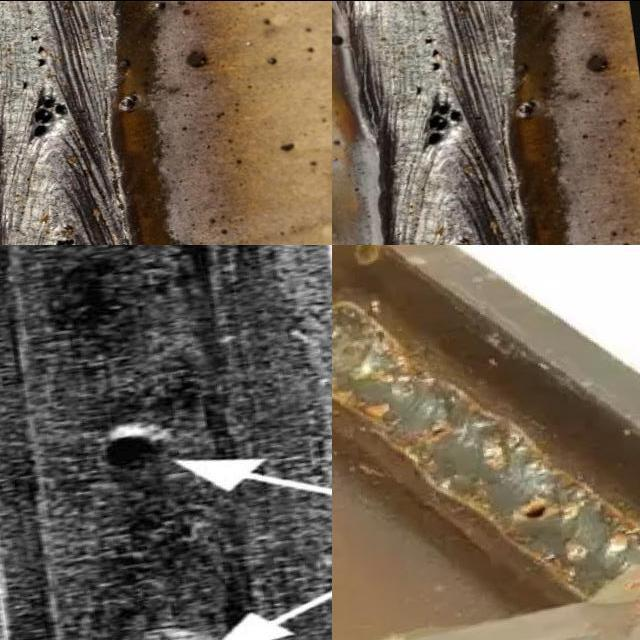defect: (72, 414, 165, 480), (419, 88, 468, 152), (25, 87, 73, 140), (25, 30, 49, 70), (422, 34, 445, 74), (515, 501, 549, 520), (419, 423, 449, 442), (49, 233, 81, 244), (332, 33, 345, 48), (413, 84, 422, 96)
